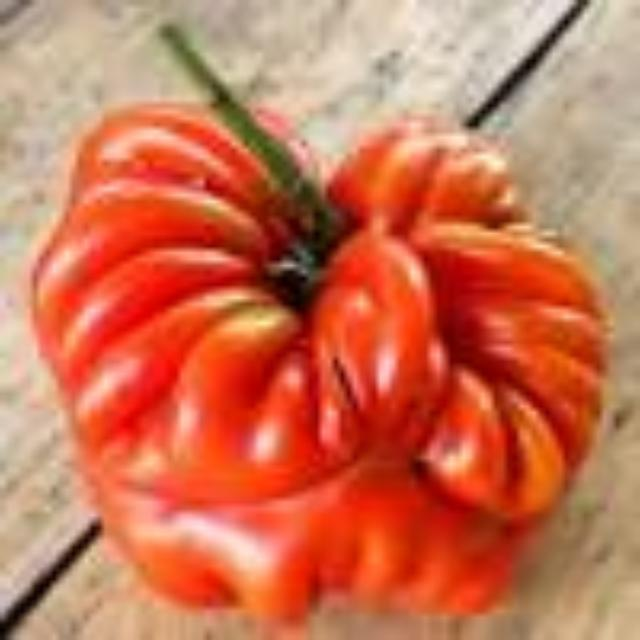Damaged potato: (35, 35, 603, 620)
